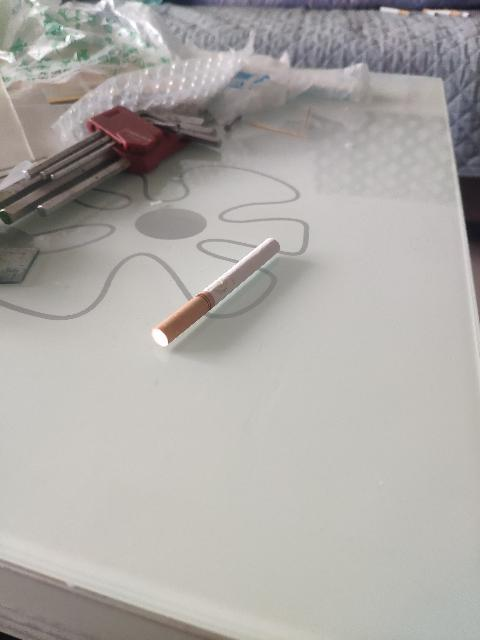Cigarette: (151, 236, 281, 348)
